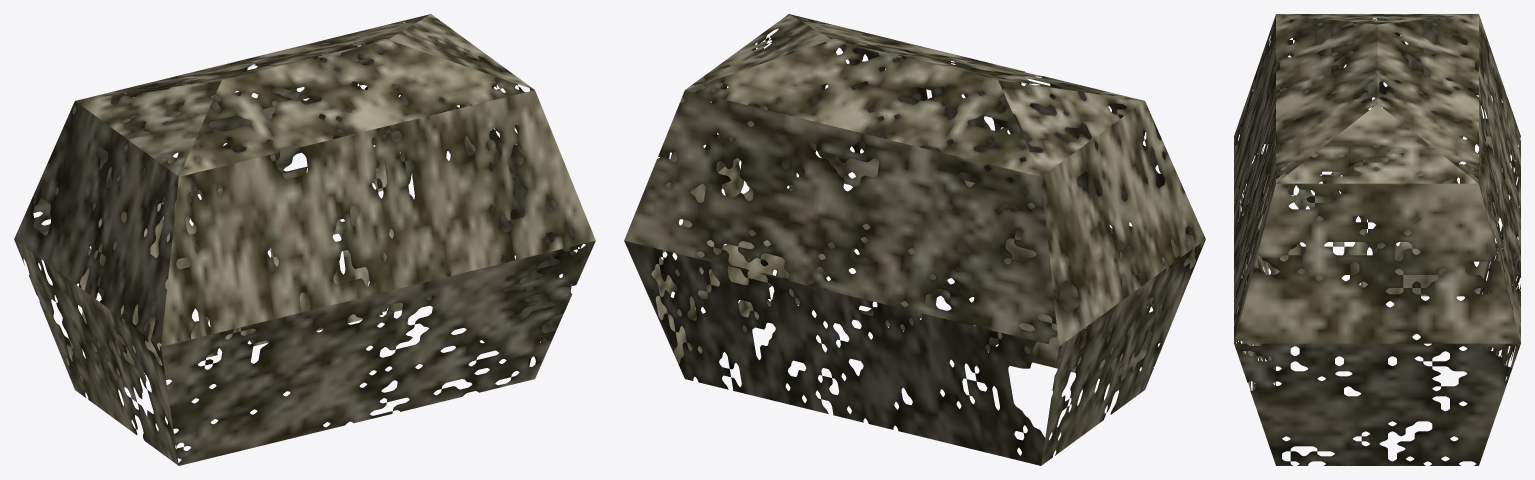
File: bush_long_half_single_dead.fbx
3 views of the same model, side by side, from view 1: azimuth 30°, elevation 25°; view 2: azimuth 150°, elevation 25°; view 3: azimuth 270°, elevation 25° (orthographic). The views are drawn at different scales.
Parts seen in each view (by area): view 1: bush_long_half_single_dead; view 2: bush_long_half_single_dead; view 3: bush_long_half_single_dead.
Part boxes in pixels (<box>): bush_long_half_single_dead: <box>14,14,595,465</box>; bush_long_half_single_dead: <box>624,14,1205,465</box>; bush_long_half_single_dead: <box>1234,14,1520,465</box>.
Bounding box in the file's own units: 123 × 87.65 × 71.91.
1 material, 1 textured.
